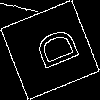D: (25, 25, 81, 76)
